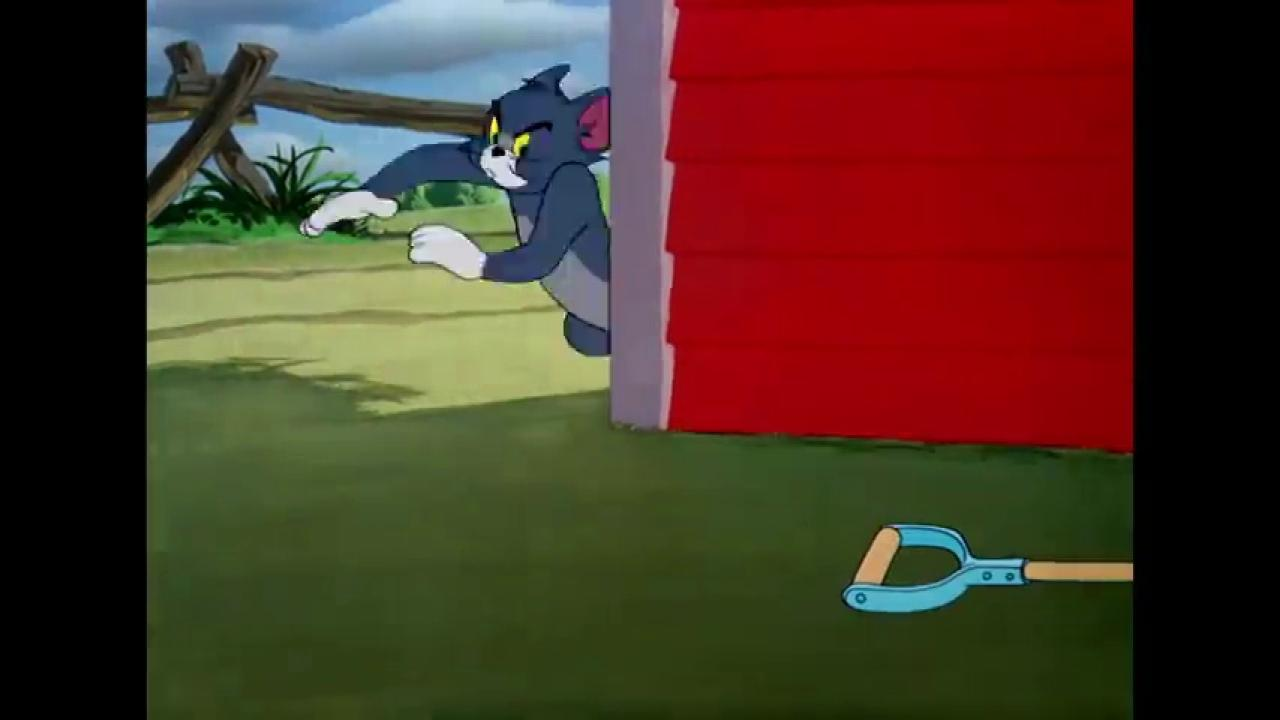Tom: (297, 60, 610, 360)
